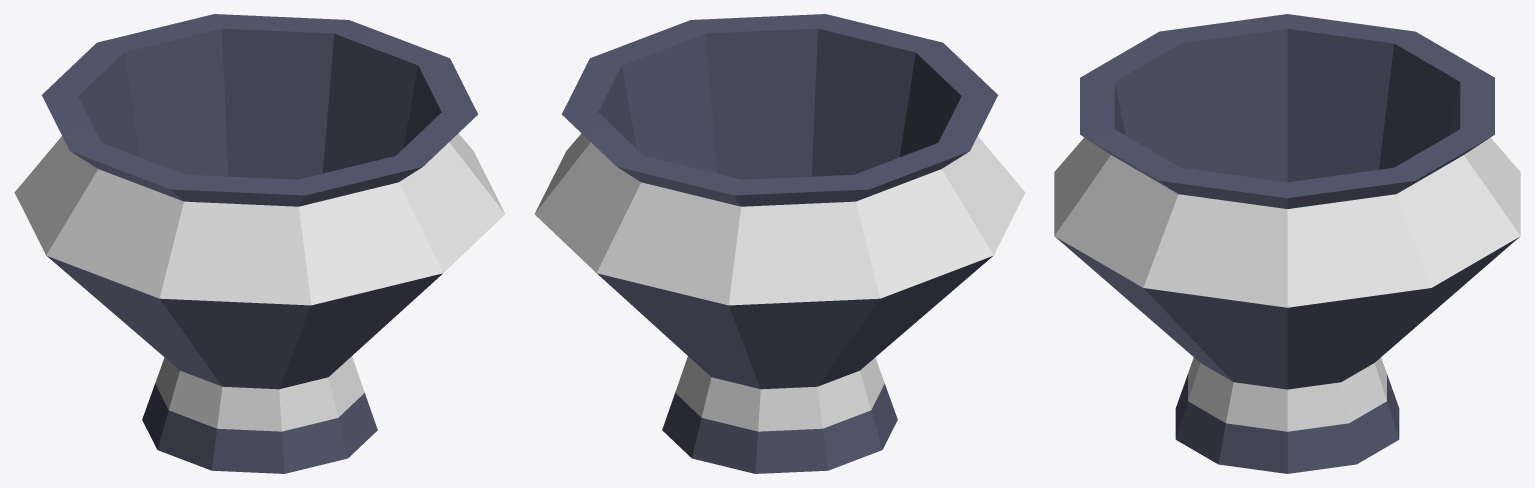
Rendered from Jarron 3.fbx.
3 renders of one model, left to right at view 1: azimuth 30°, elevation 25°; view 2: azimuth 150°, elevation 25°; view 3: azimuth 270°, elevation 25°, orthographic.
Parts seen in each view (by area): view 1: Jarron_3; view 2: Jarron_3; view 3: Jarron_3.
Part boxes in pixels (x1,y1,x2,y2): Jarron_3: [14, 14, 505, 473]; Jarron_3: [534, 14, 1025, 473]; Jarron_3: [1054, 14, 1520, 473].
Bounding box in the file's own units: 2.42 × 1.74 × 2.3.
